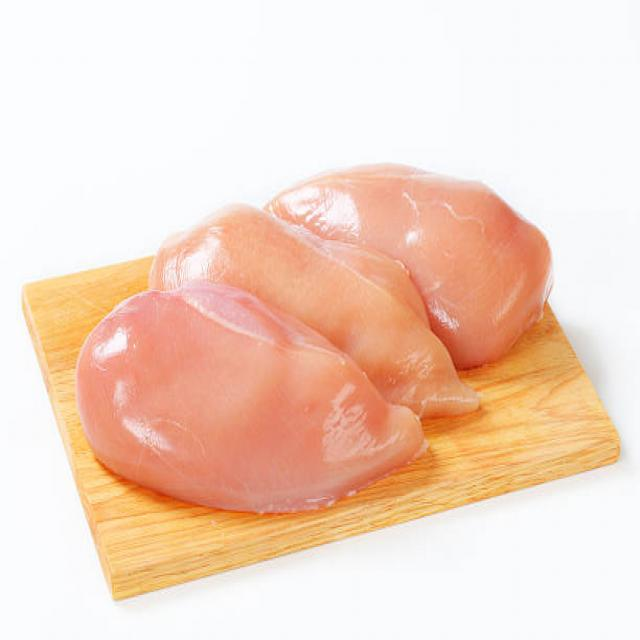chicken thigh: (82, 309, 386, 518), (300, 131, 548, 235), (171, 210, 380, 296)
